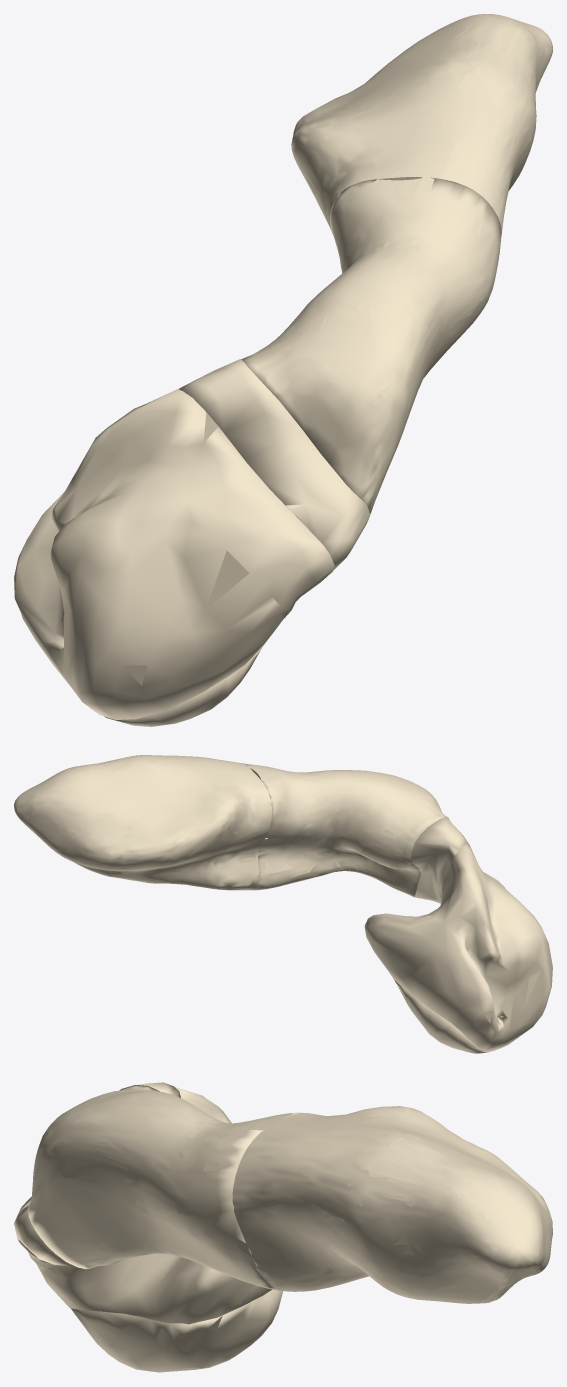
The model's file is 3d-vh-m-pancreas_lod_20.glb.
The picture shows the model from 3 angles, top to bottom: view 1: azimuth 30°, elevation 25°; view 2: azimuth 150°, elevation 25°; view 3: azimuth 270°, elevation 25°; orthographic projection. The views are drawn at different scales.
Parts seen in each view (by area): view 1: VH_M_head_of_pancreas, VH_M_body_of_pancreas, VH_M_tail_of_pancreas, VH_M_neck_of_pancreas, VH_M_uncinate_process_of_the_pancreas; view 2: VH_M_tail_of_pancreas, VH_M_head_of_pancreas, VH_M_body_of_pancreas, VH_M_neck_of_pancreas, VH_M_uncinate_process_of_the_pancreas; view 3: VH_M_tail_of_pancreas, VH_M_body_of_pancreas, VH_M_head_of_pancreas, VH_M_uncinate_process_of_the_pancreas, VH_M_neck_of_pancreas.
Boxes of the visible parts, x1,y1,x2,y2 form: VH_M_head_of_pancreas: (14,389,334,719); VH_M_body_of_pancreas: (241,177,501,519); VH_M_tail_of_pancreas: (291,14,552,235); VH_M_neck_of_pancreas: (178,359,370,572); VH_M_uncinate_process_of_the_pancreas: (104,646,263,726); VH_M_tail_of_pancreas: (14,755,271,890); VH_M_head_of_pancreas: (364,843,552,1052); VH_M_body_of_pancreas: (242,763,448,897); VH_M_neck_of_pancreas: (411,817,468,903); VH_M_uncinate_process_of_the_pancreas: (394,979,494,1053); VH_M_tail_of_pancreas: (232,1106,552,1303); VH_M_body_of_pancreas: (28,1085,302,1290); VH_M_head_of_pancreas: (14,1087,271,1324); VH_M_uncinate_process_of_the_pancreas: (70,1289,282,1372); VH_M_neck_of_pancreas: (14,1082,180,1266).
Size of the model in its own units: 0.1114 by 0.072 by 0.0836.
